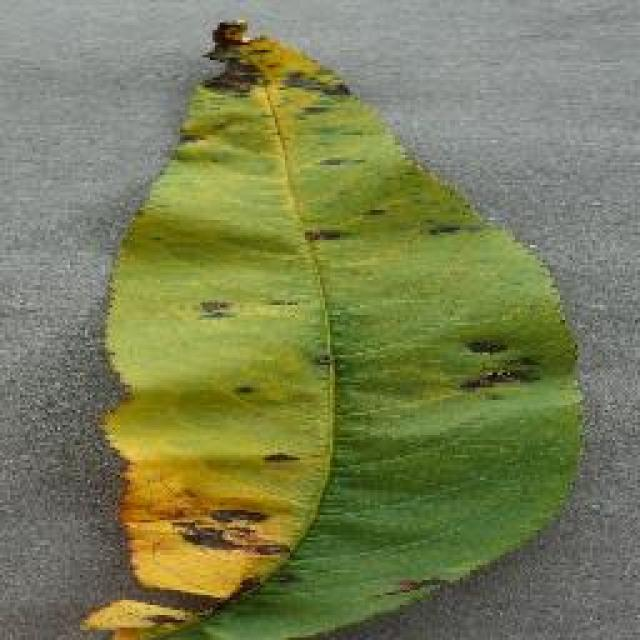Peach_Bacterial_Spot: (112, 7, 455, 618)
